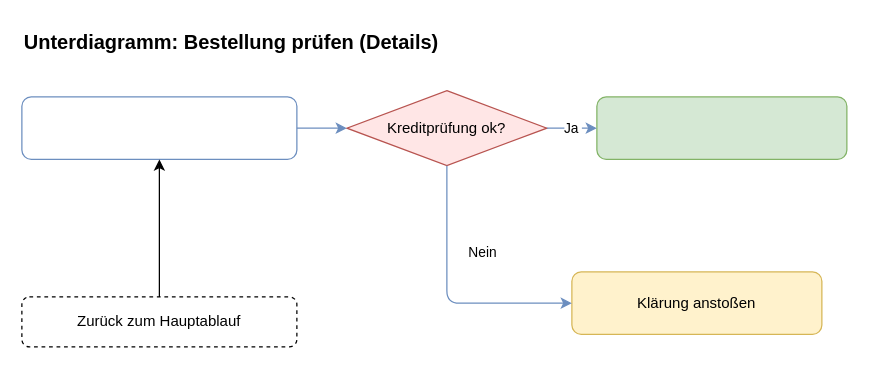
Some shapes in this 869 by 369 pixel diagram are drawn without their labels. The box of each missing label's shape, as (x1, y1, x2, y2) in pixels:
Auftrag freigeben: (596, 96, 847, 159)
Verfügbarkeit prüfen: (21, 96, 297, 159)
